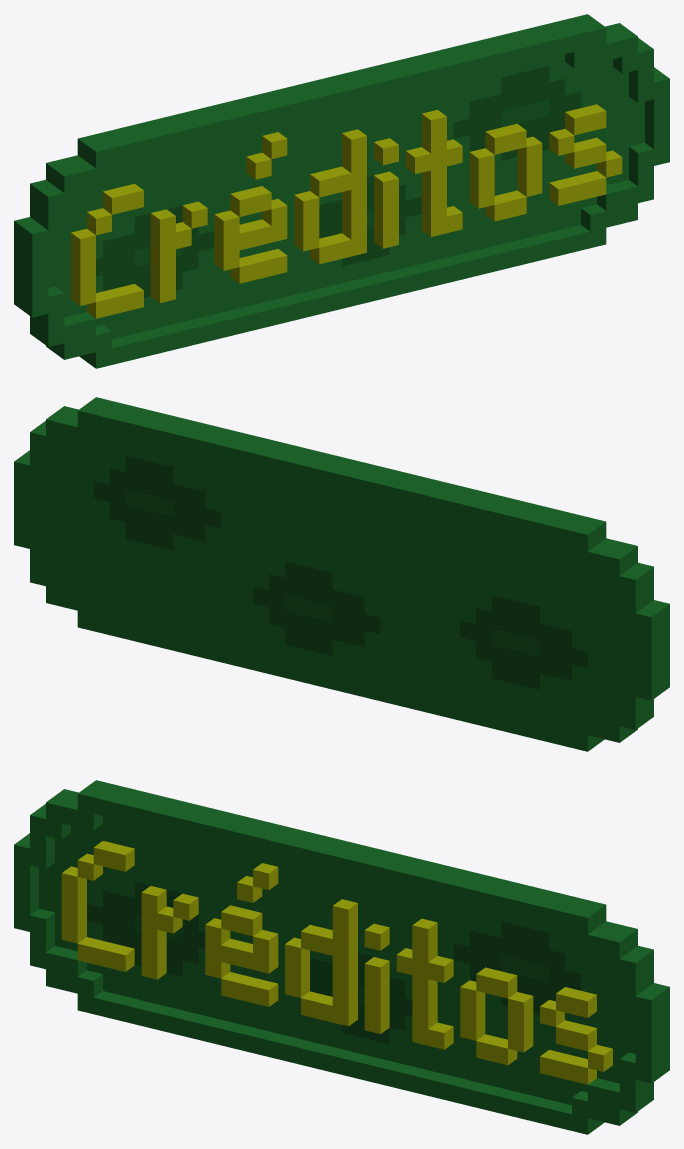
The model's file is 5_2 credts.obj.
3 views of the same model, one above another, from view 1: azimuth 30°, elevation 25°; view 2: azimuth 150°, elevation 25°; view 3: azimuth 330°, elevation 25° (orthographic).
Bounding box in the file's own units: 4 × 1.3 × 0.2.
1 material, 1 textured.
